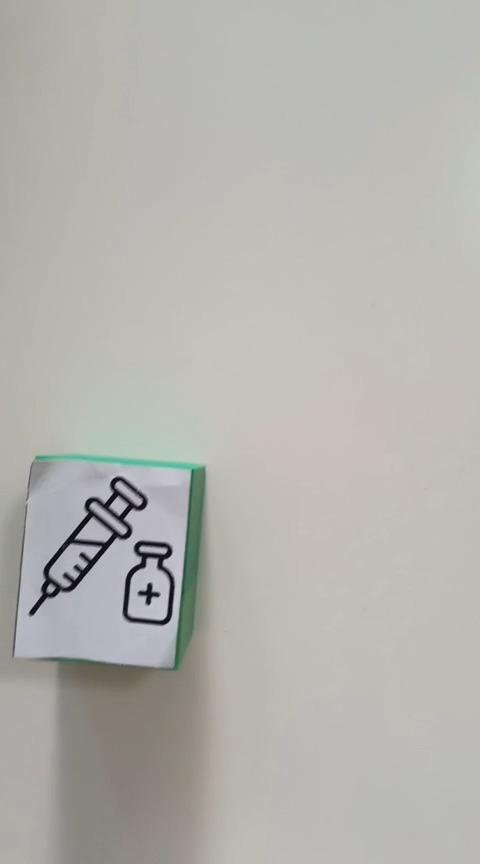antiseptic cream: (11, 450, 206, 672)
